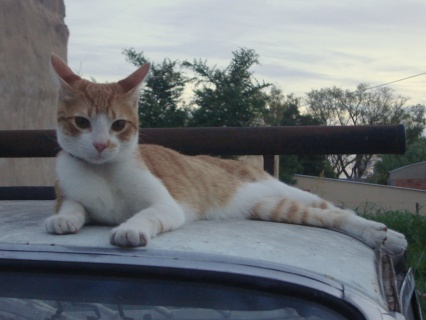Cat: (42, 47, 408, 250)
